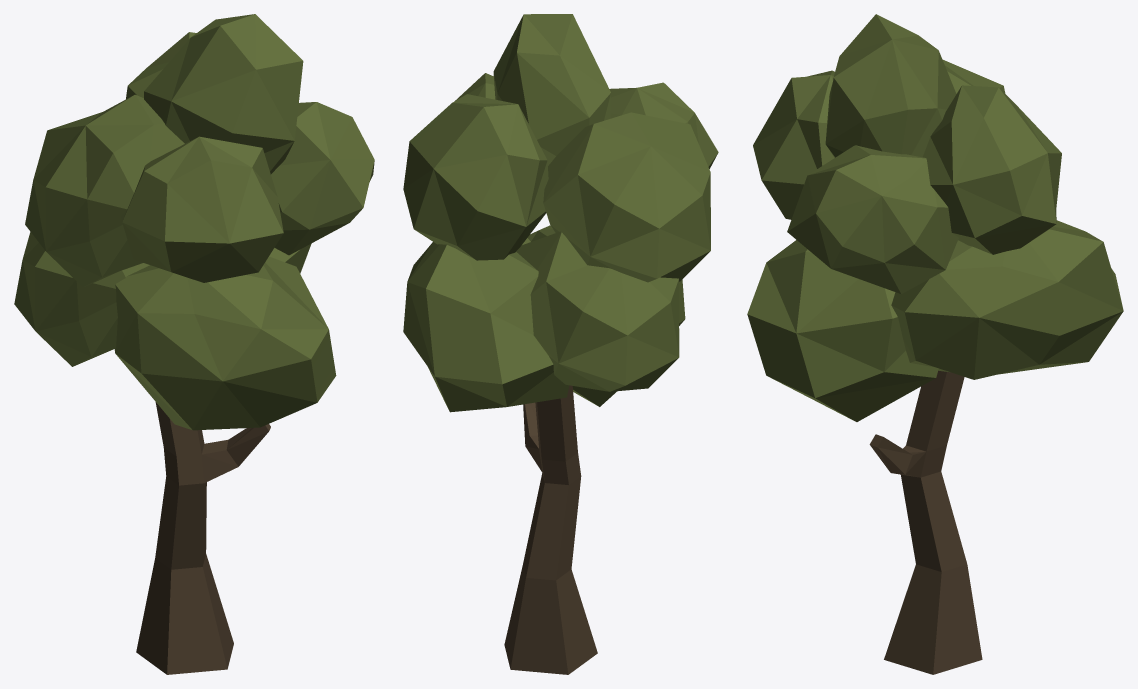
Rendered from SM_Env_Tree_016.gltf.
3 views of the same model, side by side, from view 1: azimuth 30°, elevation 25°; view 2: azimuth 150°, elevation 25°; view 3: azimuth 270°, elevation 25° (orthographic). The views are drawn at different scales.
Parts seen in each view (by area): view 1: SM_Env_Tree_016; view 2: SM_Env_Tree_016; view 3: SM_Env_Tree_016.
Part boxes in pixels (x1,y1,x2,y2): SM_Env_Tree_016: (14, 14, 374, 674); SM_Env_Tree_016: (403, 14, 718, 674); SM_Env_Tree_016: (747, 14, 1123, 674).
Size of the model in its own units: 2.69 by 5.66 by 3.01.
1 material, 1 textured.
